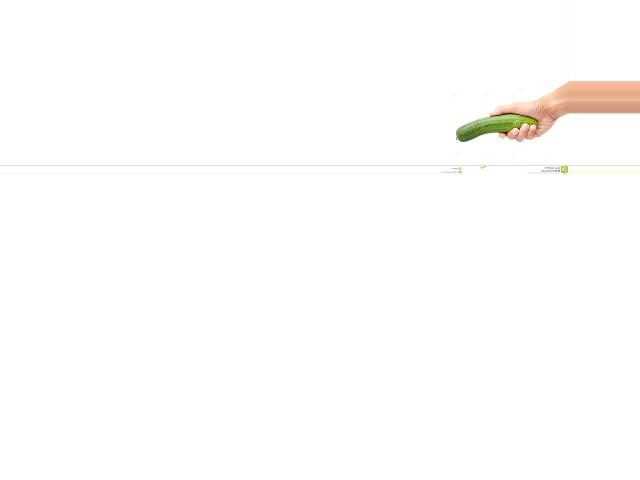cucumber: (455, 115, 537, 142)
